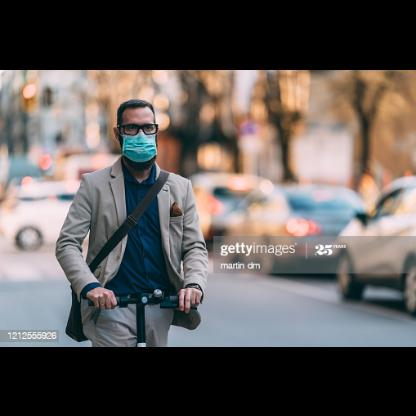Surgical Mask: (116, 104, 154, 162)
